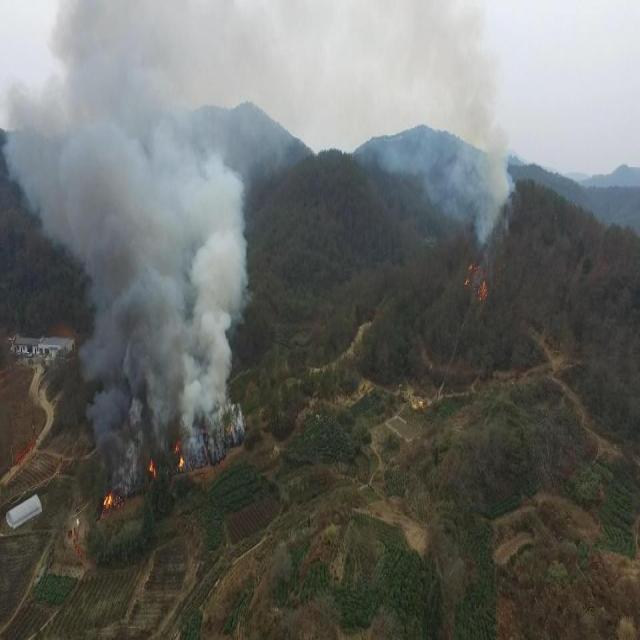Fire: (465, 262, 488, 304), (173, 440, 184, 470), (146, 457, 158, 480), (102, 493, 114, 510)
Smoke: (1, 1, 298, 498), (356, 1, 516, 254)
